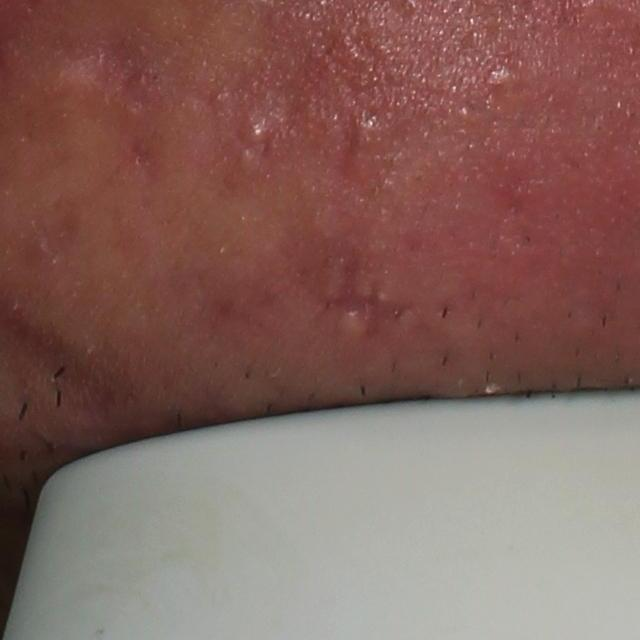atrophic_scar: (322, 252, 410, 339), (336, 113, 366, 188)
hypertrophic_scar: (334, 309, 370, 341)
